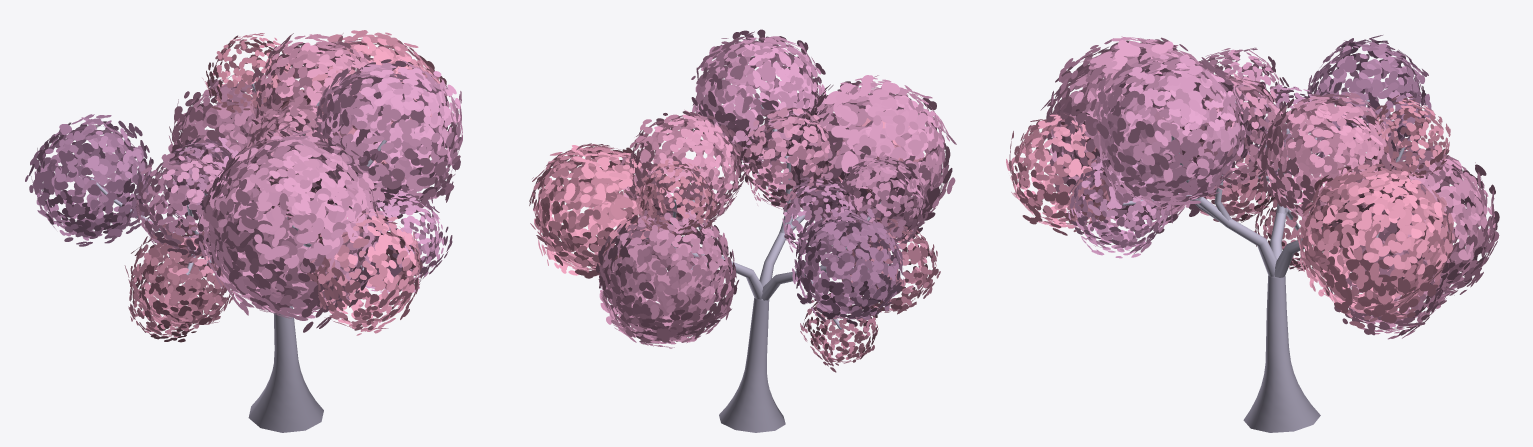
Rendered from oak-3118.glb.
3 views of the same model, side by side, from view 1: azimuth 30°, elevation 25°; view 2: azimuth 150°, elevation 25°; view 3: azimuth 270°, elevation 25° (orthographic). The views are drawn at different scales.
Visible parts, largest first — view 1: leaves, wood; view 2: leaves, wood; view 3: leaves, wood.
Boxes of the visible parts, bbox=[...] form: leaves: bbox=[25, 30, 462, 342]; wood: bbox=[90, 83, 386, 432]; leaves: bbox=[529, 29, 956, 372]; wood: bbox=[611, 98, 888, 432]; leaves: bbox=[1006, 35, 1499, 339]; wood: bbox=[1122, 99, 1405, 432].
Bounding box in the file's own units: 7.13 × 6.36 × 7.59.
Materials: 2 (1 with a texture image).
